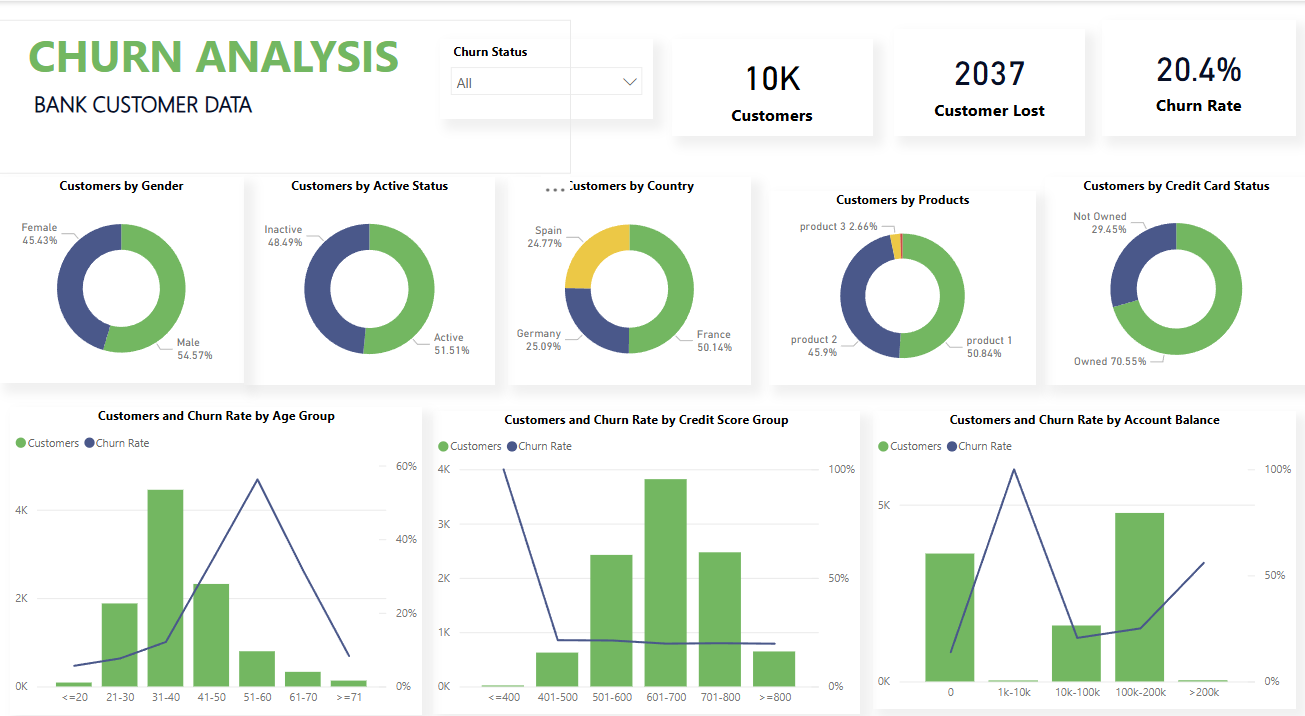

This screenshot's page, from the dashboard's own definition file:
{"tool":"powerbi","page":{"name":"Page 1","canvas":[1280,720],"ordinal":0},"visuals":[{"type":"card","fields":{"Values":["Bank Customer Churn Prediction.Customers"]},"box":[657.9,36.7,196.9,95.4],"z":0},{"type":"card","fields":{"Values":["Bank Customer Churn Prediction.Customer Lost"]},"box":[875.5,26.9,187.1,105.2],"z":1000},{"type":"card","fields":{"Values":["Bank Customer Churn Prediction.Churn Rate"]},"box":[1078.5,18.3,190.8,113.7],"z":2000},{"type":"donutChart","fields":{"Category":["Bank Customer Churn Prediction.Gender"],"Y":["Bank Customer Churn Prediction.Customers"]},"box":[0,172.4,239.7,201.8],"z":3000},{"type":"donutChart","fields":{"Y":["Bank Customer Churn Prediction.Customers"],"Category":["Bank Customer Churn Prediction.Active Status"]},"box":[239.7,172.4,245.8,203],"z":4000},{"type":"donutChart","fields":{"Y":["Bank Customer Churn Prediction.Customers"],"Category":["Bank Customer Churn Prediction.Country"]},"box":[497.7,172.4,238.5,203],"z":5000},{"type":"donutChart","fields":{"Y":["Bank Customer Churn Prediction.Customers"],"Category":["Bank Customer Churn Prediction.Products"]},"box":[753.3,185.9,261.7,189.5],"z":6000},{"type":"donutChart","fields":{"Y":["Bank Customer Churn Prediction.Customers"],"Category":["Bank Customer Churn Prediction.Credit Card Status"]},"box":[1023.5,172.4,256.8,203],"z":7000},{"type":"lineStackedColumnComboChart","fields":{"Category":["Age Group Table.Age Group"],"Y":["Bank Customer Churn Prediction.Customers"],"Y2":["Bank Customer Churn Prediction.Churn Rate"]},"box":[11,397.4,403.5,300.8],"z":8000},{"type":"lineStackedColumnComboChart","fields":{"Y":["Bank Customer Churn Prediction.Customers"],"Y2":["Bank Customer Churn Prediction.Churn Rate"],"Category":["Credit Score Table.Credit Score Group"]},"box":[424.3,401.1,418.2,297.1],"z":9000},{"type":"lineStackedColumnComboChart","fields":{"Y":["Bank Customer Churn Prediction.Customers"],"Y2":["Bank Customer Churn Prediction.Churn Rate"],"Category":["Account Balance Table.Account Balance"]},"box":[854.8,401.1,414.5,292.3],"z":10000},{"type":"slicer","fields":{"Values":["Bank Customer Churn Prediction.Churn Status"]},"box":[431.7,36.7,207.9,79.5],"z":11000},{"type":"textbox","box":[0,18.3,560.1,150.4],"z":12000}]}

Visuals, with their boxes in screenshot pixels (x1, y1, x2, y2), scaled from the page's 1280x720 canvas onto the 1305x716 screenshot:
card - Bank Customer Churn Prediction.Customers: (671, 36, 871, 131)
card - Bank Customer Churn Prediction.Customer Lost: (893, 27, 1083, 131)
card - Bank Customer Churn Prediction.Churn Rate: (1100, 18, 1294, 131)
donutChart - Bank Customer Churn Prediction.Gender x Bank Customer Churn Prediction.Customers: (0, 171, 244, 372)
donutChart - Bank Customer Churn Prediction.Customers x Bank Customer Churn Prediction.Active Status: (244, 171, 495, 373)
donutChart - Bank Customer Churn Prediction.Customers x Bank Customer Churn Prediction.Country: (507, 171, 751, 373)
donutChart - Bank Customer Churn Prediction.Customers x Bank Customer Churn Prediction.Products: (768, 185, 1035, 373)
donutChart - Bank Customer Churn Prediction.Customers x Bank Customer Churn Prediction.Credit Card Status: (1043, 171, 1304, 373)
lineStackedColumnComboChart - Age Group Table.Age Group x Bank Customer Churn Prediction.Customers: (11, 395, 423, 694)
lineStackedColumnComboChart - Bank Customer Churn Prediction.Customers x Bank Customer Churn Prediction.Churn Rate: (433, 399, 859, 694)
lineStackedColumnComboChart - Bank Customer Churn Prediction.Customers x Bank Customer Churn Prediction.Churn Rate: (871, 399, 1294, 690)
slicer - Bank Customer Churn Prediction.Churn Status: (440, 36, 652, 116)
textbox: (0, 18, 571, 168)
